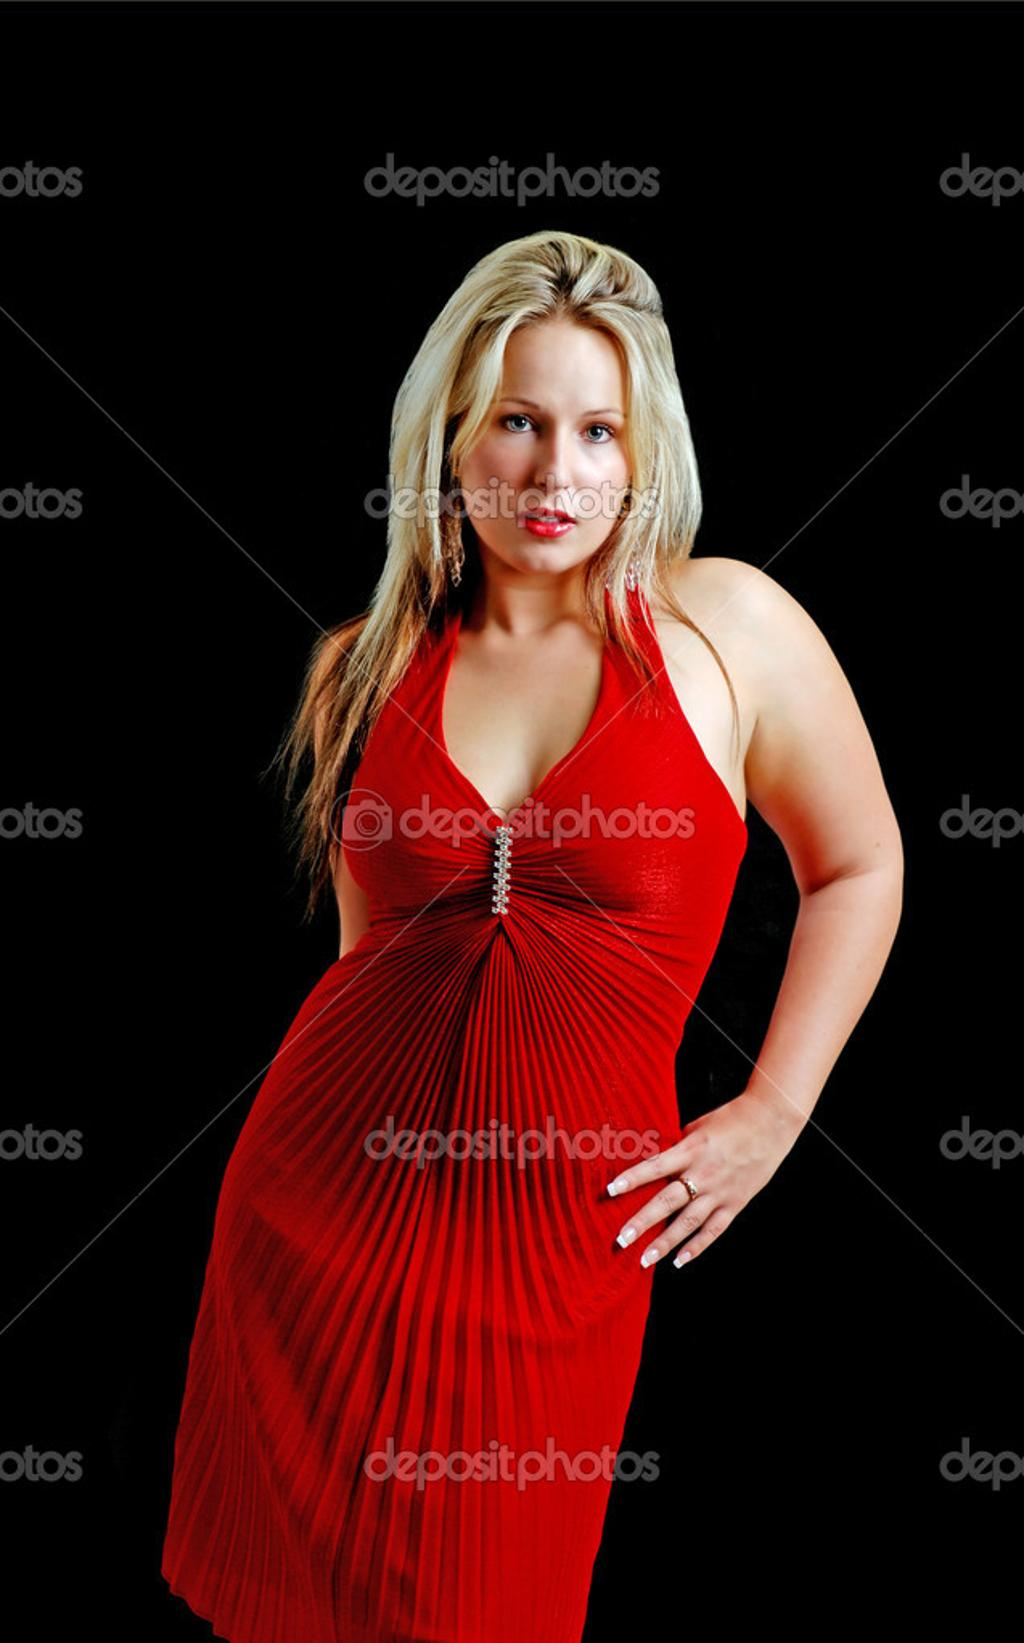face: (453, 302, 630, 572)
